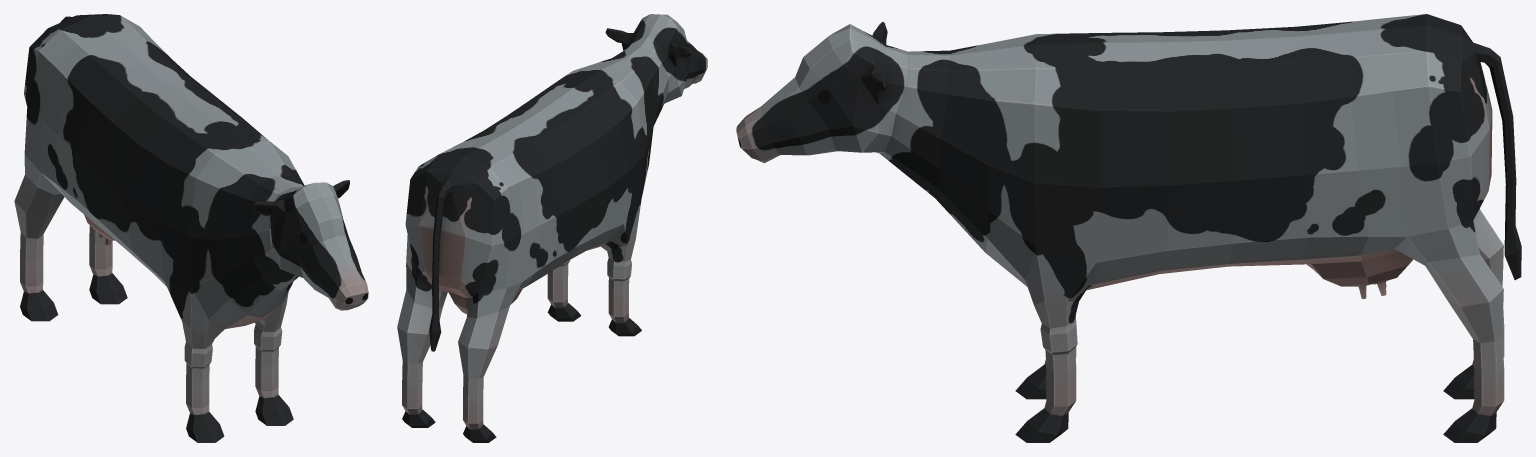
File: asset.gltf
3 renders of one model, left to right at view 1: azimuth 30°, elevation 25°; view 2: azimuth 150°, elevation 25°; view 3: azimuth 270°, elevation 25°, orthographic. The views are drawn at different scales.
Parts seen in each view (by area): view 1: node-0; view 2: node-0; view 3: node-0.
Boxes of the visible parts, x1,y1,x2,y2 form: node-0: [14, 14, 368, 442]; node-0: [397, 14, 707, 442]; node-0: [736, 14, 1521, 442].
Bounding box in the file's own units: 3.36 × 7.42 × 13.65.
Materials: 1 (1 with a texture image).
